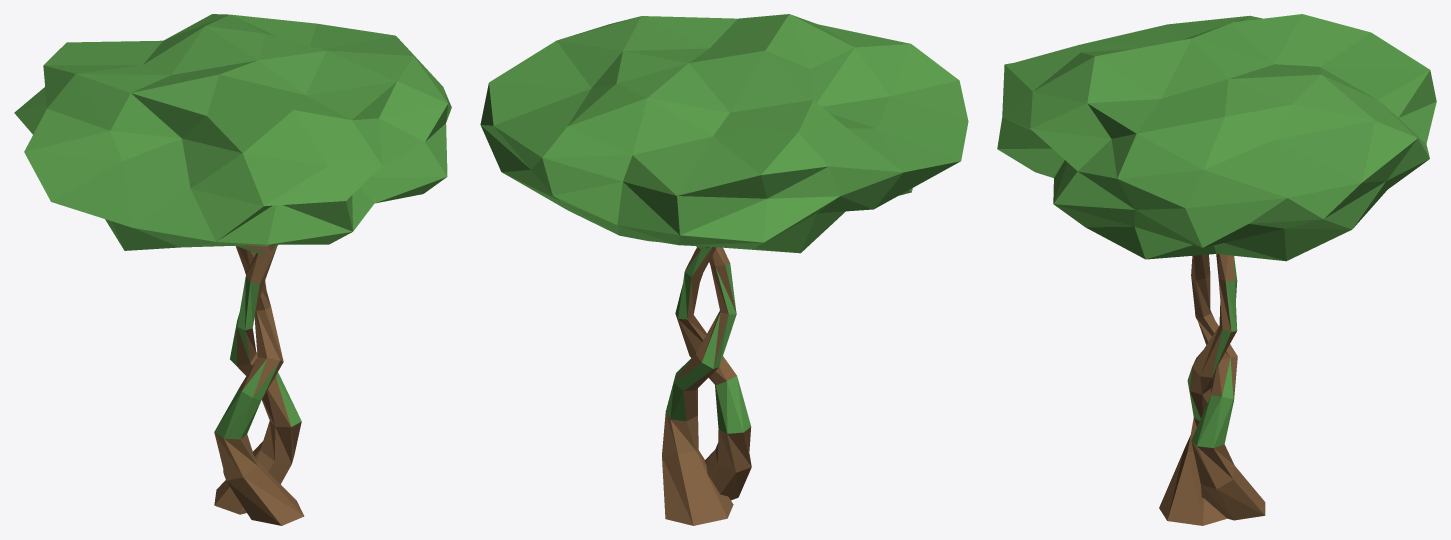
The model's file is tree3d-111.glb.
3 views of the same model, side by side, from view 1: azimuth 30°, elevation 25°; view 2: azimuth 150°, elevation 25°; view 3: azimuth 270°, elevation 25° (orthographic). The views are drawn at different scales.
Visible parts, largest first — view 1: tree3d-111; view 2: tree3d-111; view 3: tree3d-111.
Boxes of the visible parts, x1=… form: tree3d-111: x1=14, y1=14, x2=451, y2=525; tree3d-111: x1=480, y1=14, x2=968, y2=525; tree3d-111: x1=997, y1=14, x2=1436, y2=525.
Bounding box in the file's own units: 0.9726 × 1 × 0.8904.
